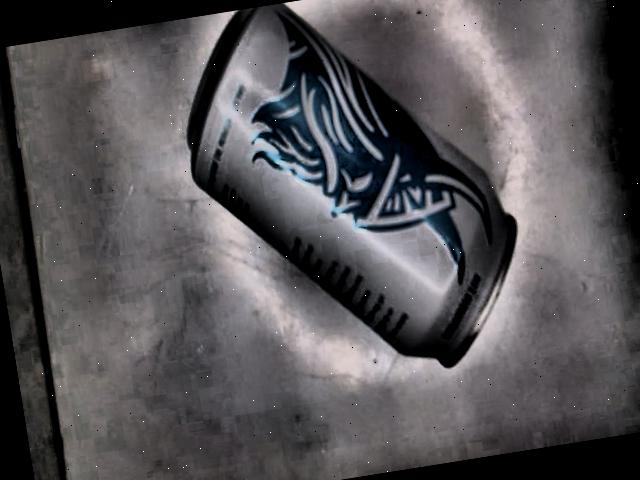Bottles: (185, 4, 518, 367)
